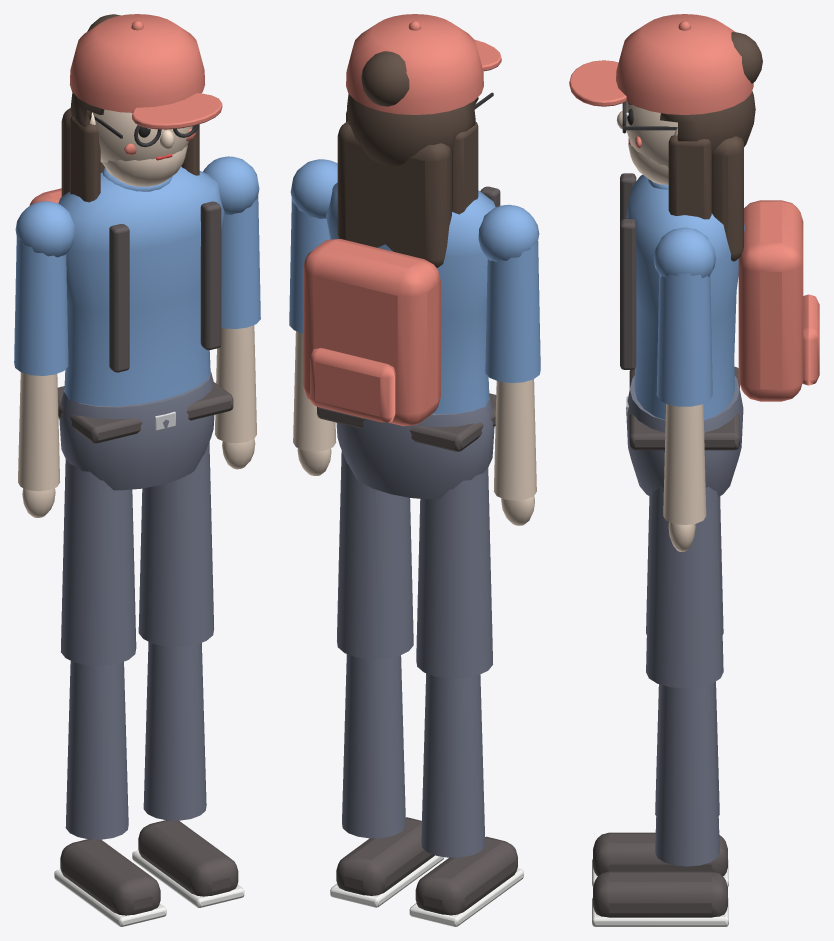
File: Customer.fbx
The picture shows the model from 3 angles, left to right: view 1: azimuth 30°, elevation 25°; view 2: azimuth 150°, elevation 25°; view 3: azimuth 270°, elevation 25°; orthographic projection.
Visible parts, largest first — view 1: Customer, Leg_L, Leg_R, Arm_L, Cap, Arm_R, Backpack, Head, Hair_Long; view 2: Leg_L, Leg_R, Backpack, Customer, Hair_Long, Arm_L, Cap, Arm_R, Hair_Bun; view 3: Leg_R, Customer, Backpack, Arm_R, Cap, Hair_Long, Leg_L, Head, Hair_Bun.
Part boxes in pixels (<box>): Customer: <box>57,166,233,490</box>; Leg_L: <box>54,458,166,926</box>; Leg_R: <box>132,442,244,907</box>; Arm_L: <box>14,201,75,517</box>; Cap: <box>69,14,222,129</box>; Arm_R: <box>203,156,260,469</box>; Backpack: <box>29,188,221,372</box>; Head: <box>90,109,195,186</box>; Hair_Long: <box>61,92,199,202</box>; Leg_L: <box>409,467,523,926</box>; Leg_R: <box>330,451,444,907</box>; Backpack: <box>303,186,500,426</box>; Customer: <box>317,182,496,499</box>; Hair_Long: <box>337,94,478,267</box>; Arm_L: <box>478,204,540,525</box>; Cap: <box>346,14,501,114</box>; Arm_R: <box>289,159,337,475</box>; Hair_Bun: <box>361,51,409,106</box>; Leg_R: <box>592,486,728,926</box>; Customer: <box>626,174,744,496</box>; Backpack: <box>620,173,819,401</box>; Arm_R: <box>653,227,715,551</box>; Cap: <box>569,14,753,114</box>; Hair_Long: <box>660,91,755,261</box>; Leg_L: <box>592,496,728,886</box>; Head: <box>616,101,677,184</box>; Hair_Bun: <box>731,32,762,83</box>.
Bounding box in the file's own units: 0.5214 × 1.79 × 0.464.
